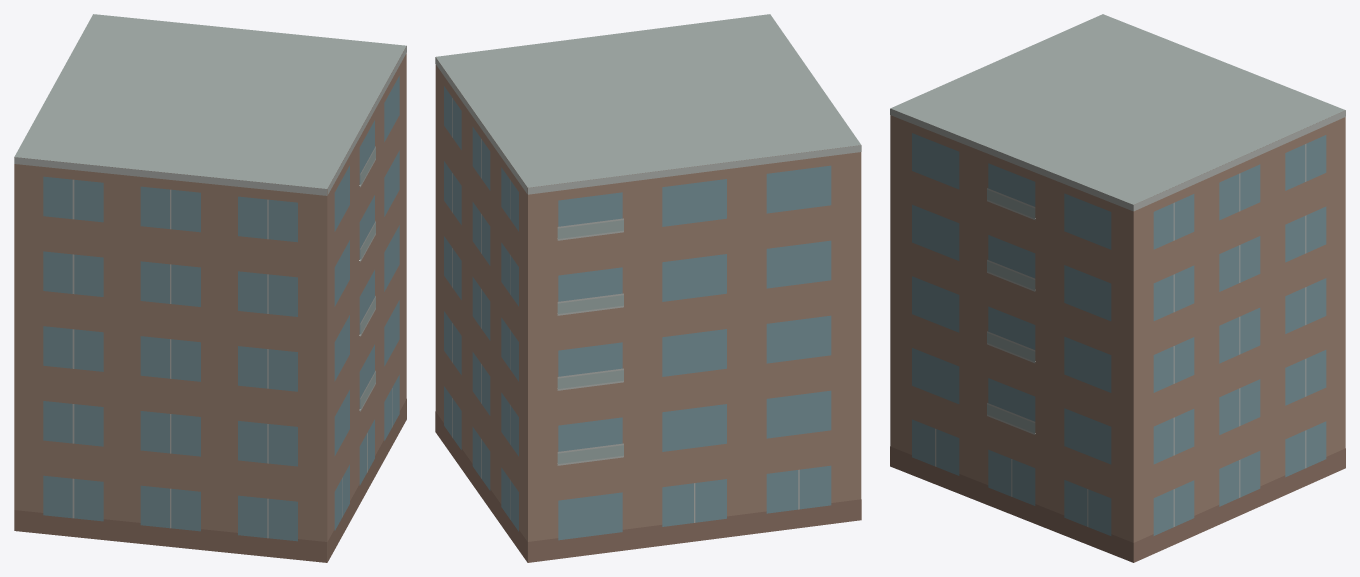
File: survey-upis-32892489.glb
The picture shows the model from 3 angles, left to right: view 1: azimuth 30°, elevation 25°; view 2: azimuth 150°, elevation 25°; view 3: azimuth 270°, elevation 25°; orthographic projection. The views are drawn at different scales.
Visible parts, largest first — view 1: survey-upis-32892489.tmp; view 2: survey-upis-32892489.tmp; view 3: survey-upis-32892489.tmp.
Boxes of the visible parts, bbox=[...] form: survey-upis-32892489.tmp: bbox=[14, 14, 406, 562]; survey-upis-32892489.tmp: bbox=[435, 14, 861, 562]; survey-upis-32892489.tmp: bbox=[890, 14, 1345, 562].
Bounding box in the file's own units: 15.1 × 13.2 × 15.23.
